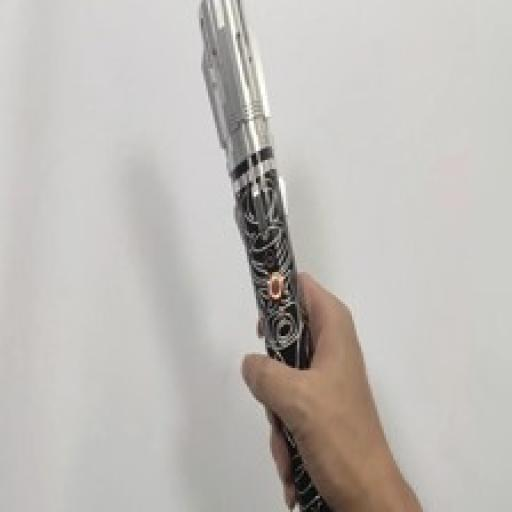lightsaber: (192, 1, 331, 512)
